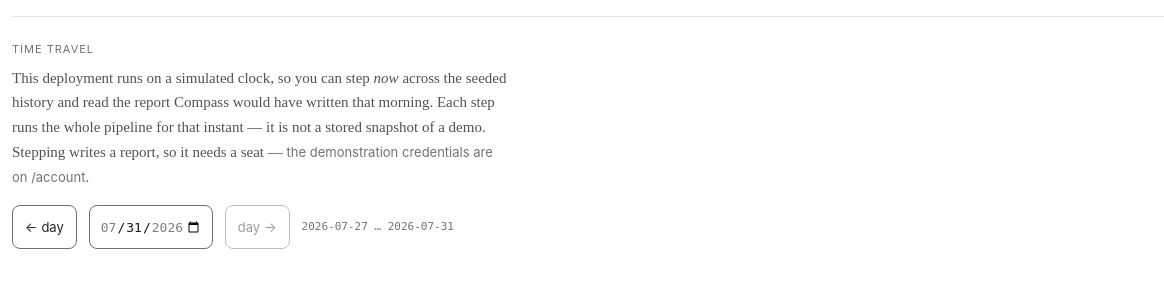
Test: a refused step leaves the control on the day that is on screen › reverts the date after a 401, which is what every anonymous reader gets
Expected: the date field holds "2026-07-31", [89,205,213,249]
What coordinates should you click on to do the following:
click the button "← day"
I would click on:
 (44, 227)
Its box is [12,205,77,249].
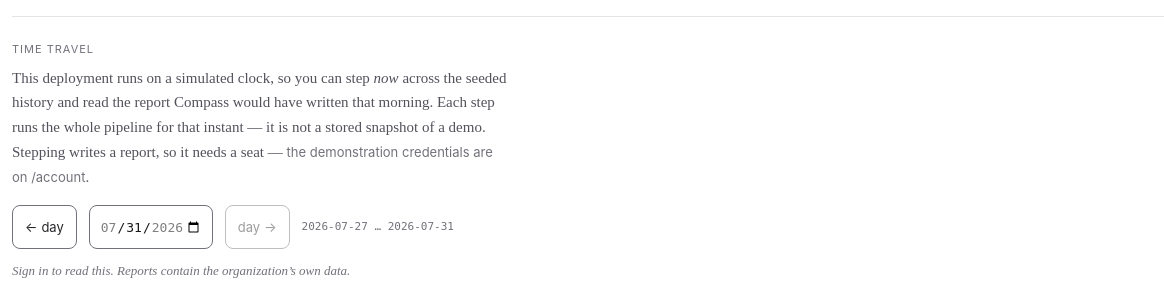
Expected: the date field holds "2026-07-31", [89,205,213,249]
Now the message "Sign in to read this. Reports contain the organization’s own data." is shown, box [12,263,350,278]
